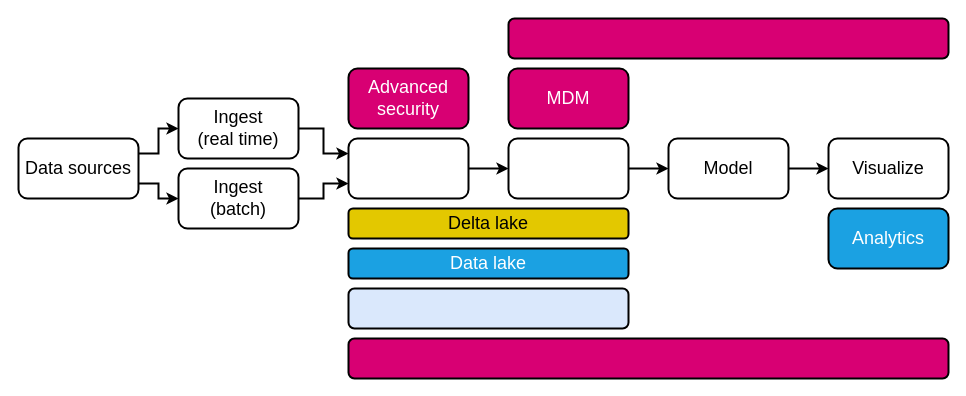
Some shapes in this 966 by 396 pixel diagram are drawn without their labels. The box of each missing label's shape, as (x1, y1, x2, y2) in pixels:
API: (507, 17, 949, 59)
Machine learning: (347, 287, 629, 329)
Metadata: (347, 337, 949, 379)
Store: (347, 137, 469, 199)
Transform: (507, 137, 629, 199)
